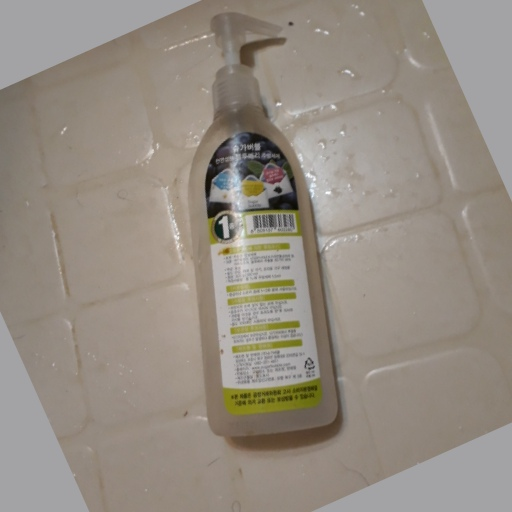Plastic_3: (177, 9, 344, 437)
